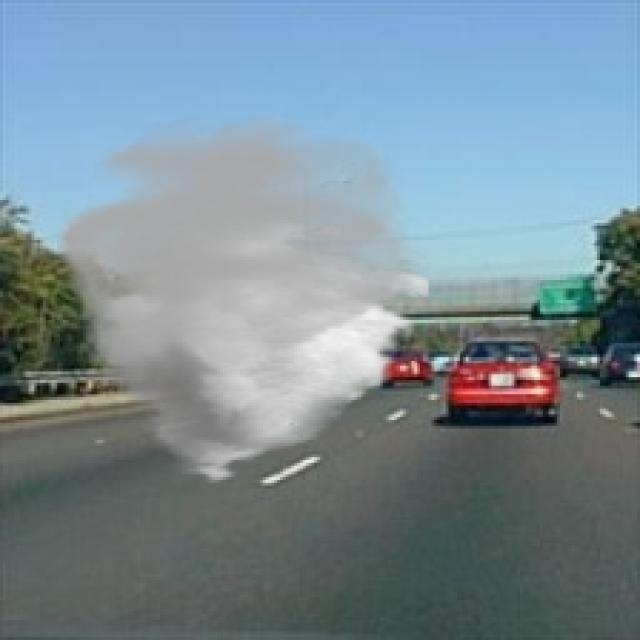Smoke: (51, 114, 428, 486)
